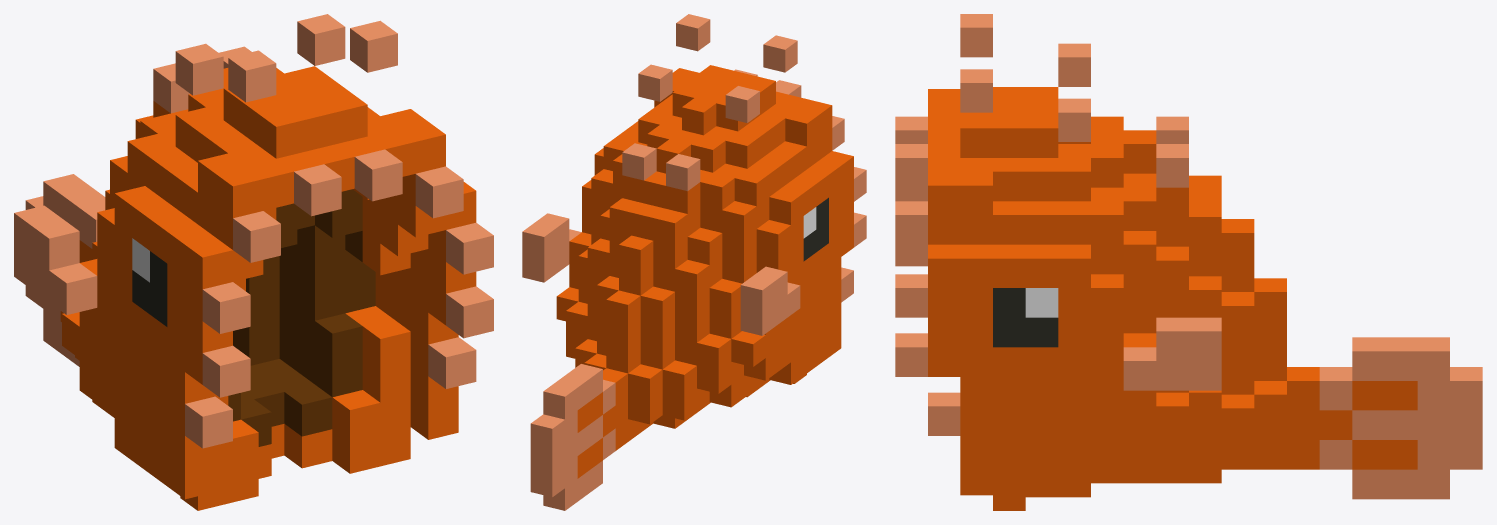
Rendered from Angler Fish.obj.
3 views of the same model, side by side, from view 1: azimuth 30°, elevation 25°; view 2: azimuth 150°, elevation 25°; view 3: azimuth 270°, elevation 25° (orthographic). The views are drawn at different scales.
Bounding box in the file's own units: 11 × 15 × 18.
1 material, 1 textured.
